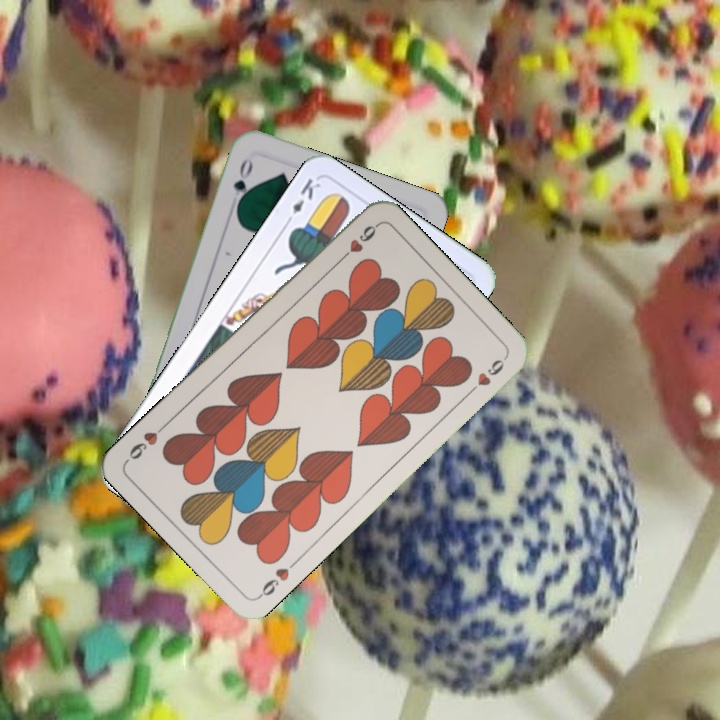EK: (281, 174, 324, 228)
GO: (229, 154, 256, 211)
H9: (334, 220, 381, 266), (254, 556, 301, 601)
